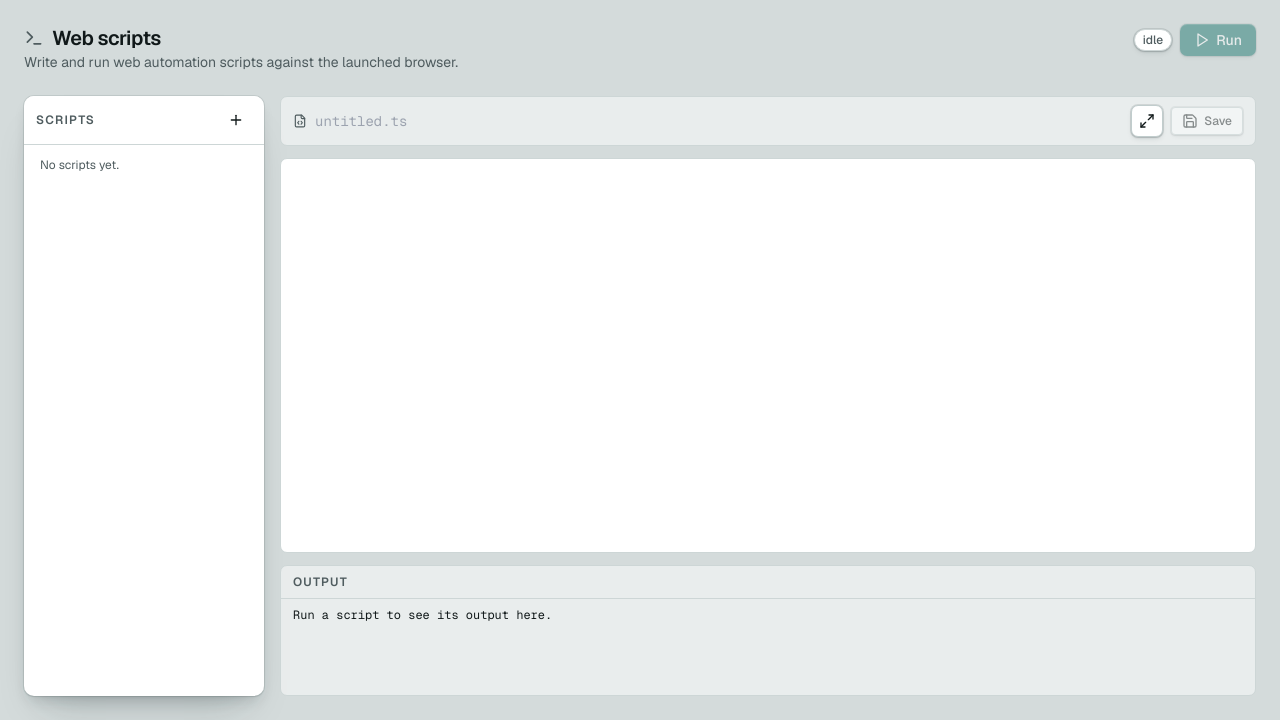
Test: CodeEditor — "+" menu toggle / dismiss › outside mousedown dismisses the menu
Click the button named "New…": {"x": 236, "y": 120} [220, 104, 252, 136]
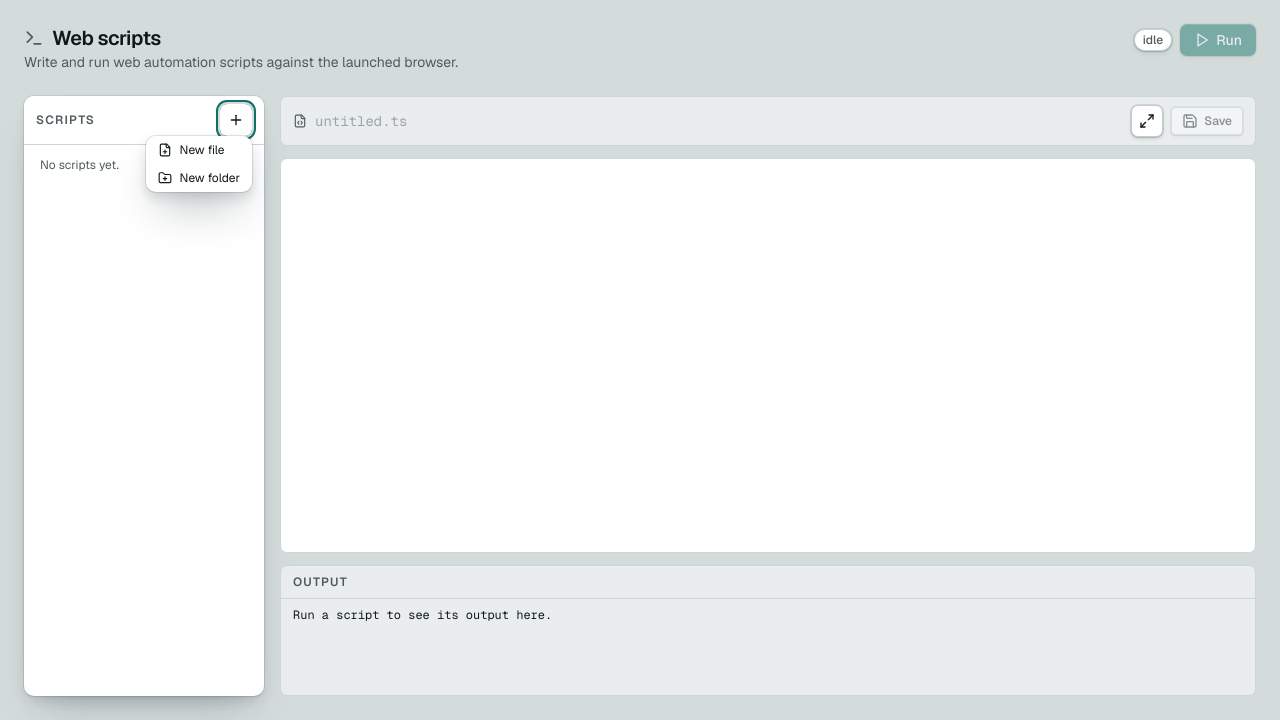
expect the element with test id "script-create-menu" is shown: met, box [146, 136, 252, 192]
Press the mouse on the element that starts with "Web scripts": {"x": 640, "y": 360} [0, 0, 1279, 719]
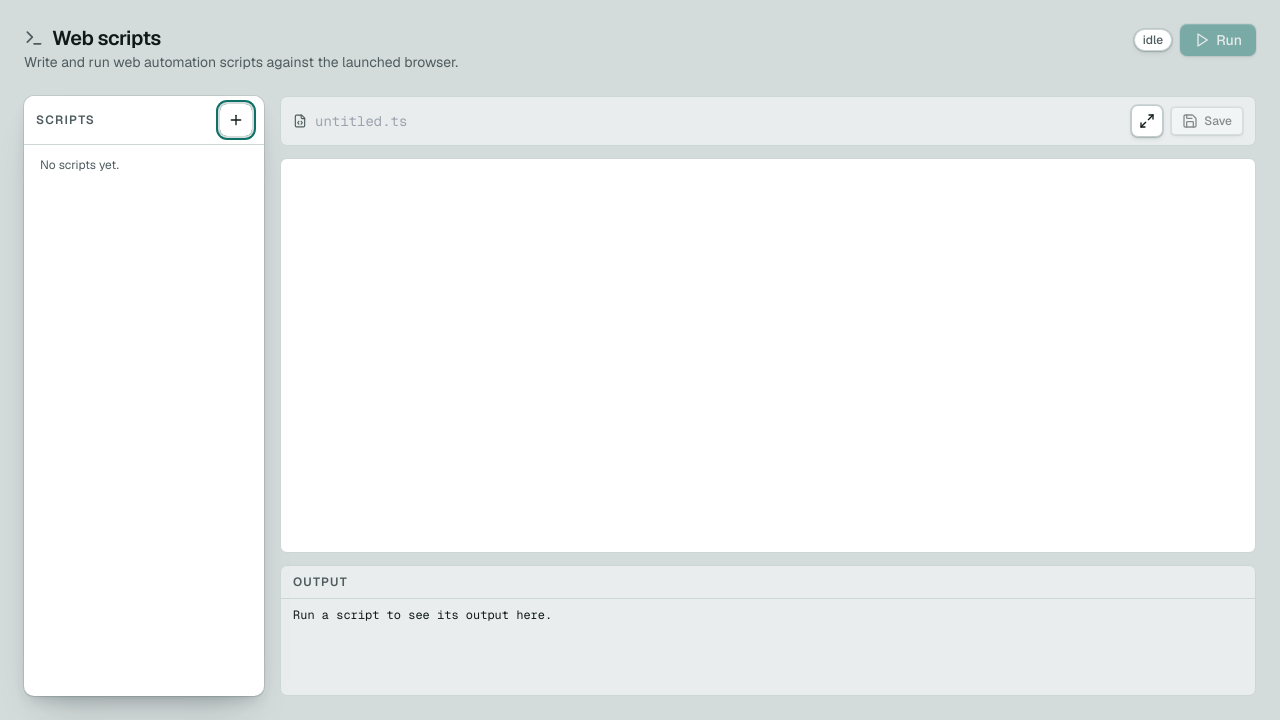
expect the element with test id "script-create-menu" is gone: met
